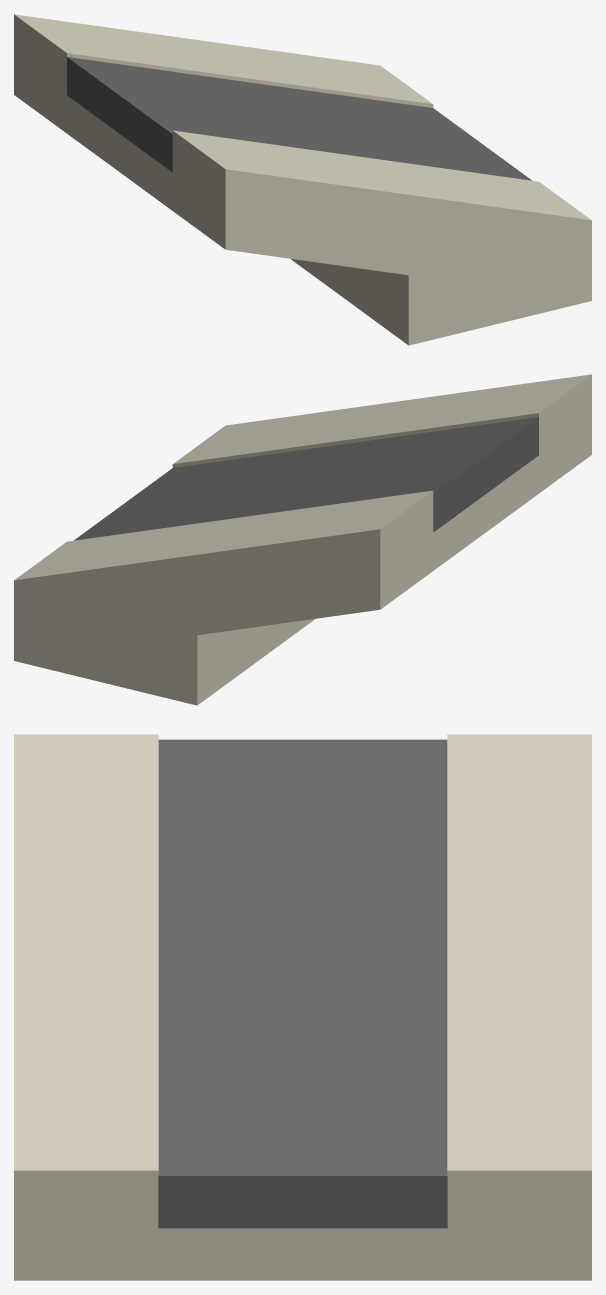
Rendered from tile048.dae.
3 views of the same model, one above another, from view 1: azimuth 30°, elevation 25°; view 2: azimuth 150°, elevation 25°; view 3: azimuth 270°, elevation 25° (orthographic). The views are drawn at different scales.
Parts seen in each view (by area): view 1: tile048; view 2: tile048; view 3: tile048.
Boxes of the visible parts, left/top/right/bottom form: tile048: left=14, top=14, right=591, bottom=345; tile048: left=14, top=374, right=591, bottom=705; tile048: left=14, top=734, right=591, bottom=1280.
Bounding box in the file's own units: 1 × 0.5767 × 1.
